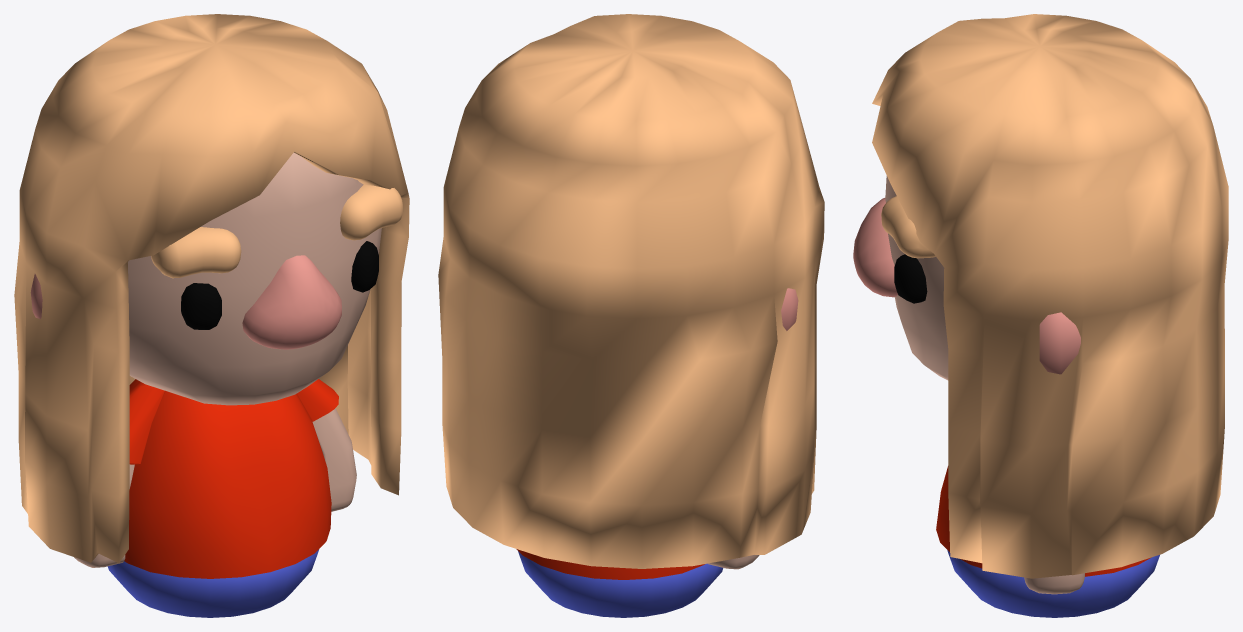
The model's file is Guest_3.fbx.
3 views of the same model, side by side, from view 1: azimuth 30°, elevation 25°; view 2: azimuth 150°, elevation 25°; view 3: azimuth 270°, elevation 25° (orthographic). The views are drawn at different scales.
Visible parts, largest first — view 1: Long Hair.001, PrototypePete_head.003, PrototypePete_body.004, PrototypePete_armLeft.004, PrototypePete_armRight.003; view 2: Long Hair.001, PrototypePete_body.004, PrototypePete_head.003; view 3: Long Hair.001, PrototypePete_head.003, PrototypePete_body.004, PrototypePete_armLeft.004.
Part boxes in pixels (box(x1,y1,x2,y2)): Long Hair.001: box(14, 14, 409, 563); PrototypePete_head.003: box(30, 152, 403, 405); PrototypePete_body.004: box(107, 379, 331, 617); PrototypePete_armLeft.004: box(296, 379, 356, 511); PrototypePete_armRight.003: box(74, 381, 165, 567); Long Hair.001: box(438, 14, 824, 568); PrototypePete_body.004: box(516, 549, 723, 617); PrototypePete_head.003: box(781, 288, 798, 330); Long Hair.001: box(872, 14, 1228, 578); PrototypePete_head.003: box(853, 176, 1080, 380); PrototypePete_body.004: box(936, 466, 1159, 617); PrototypePete_armLeft.004: box(1024, 573, 1084, 594).
Size of the model in its own units: 118 by 173 by 110.
